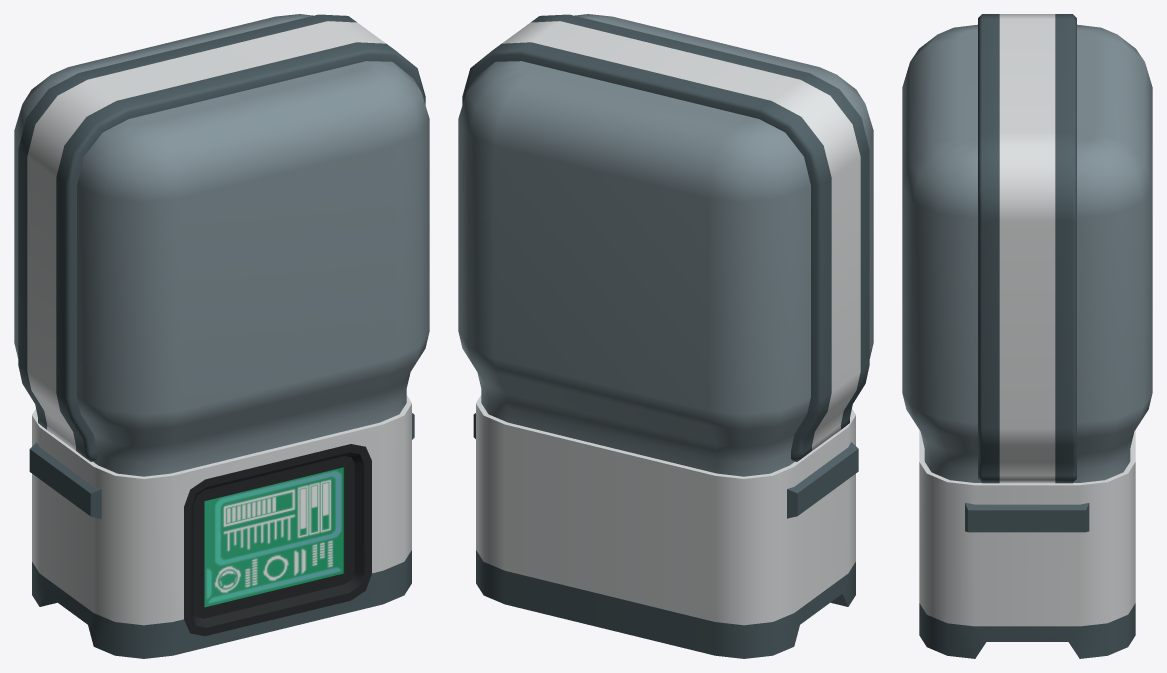
File: Mini_farm_005.fbx
3 renders of one model, left to right at view 1: azimuth 30°, elevation 25°; view 2: azimuth 150°, elevation 25°; view 3: azimuth 270°, elevation 25°, orthographic. The views are drawn at different scales.
Parts seen in each view (by area): view 1: Mini_farm_005; view 2: Mini_farm_005; view 3: Mini_farm_005.
Part boxes in pixels (box(x1,y1,x2,y2)): Mini_farm_005: box(14, 14, 429, 658); Mini_farm_005: box(458, 14, 873, 658); Mini_farm_005: box(902, 14, 1152, 658).
Size of the model in its own units: 186 by 116 by 260.
